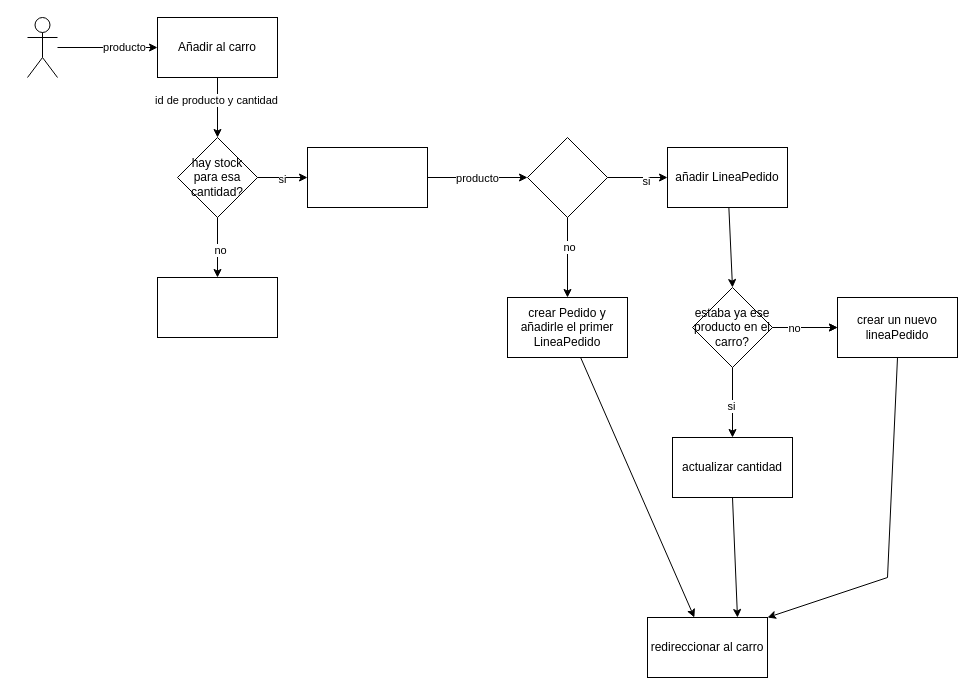
Some shapes in this 975 by 695 pixel diagram are drawn without their labels. Here are the shapes that lost their labels. From the top down, the centre of each, then its label:
[42,47]: CLIENTE
[367,177]: Crear o actualizar lineaPedido
[567,177]: existe ya el pedido y es un "carrito" ?
[217,307]: devolver error
